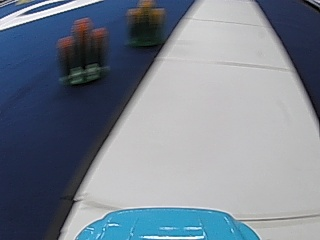corn: (56, 15, 107, 89), (125, 2, 167, 47)
